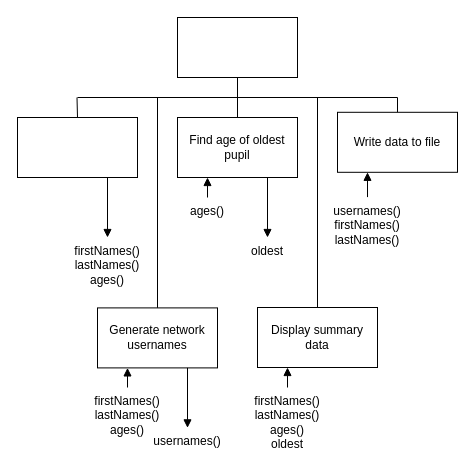
The diagram is 475 pixels wide and 475 high, and some of its shapes have lost their labels. The shapes that lost their labels are listed below. From the top down, each one's centre as x and y in pixels, then its label:
(237,47): Network usernames program
(77,147): Get pupils' data
